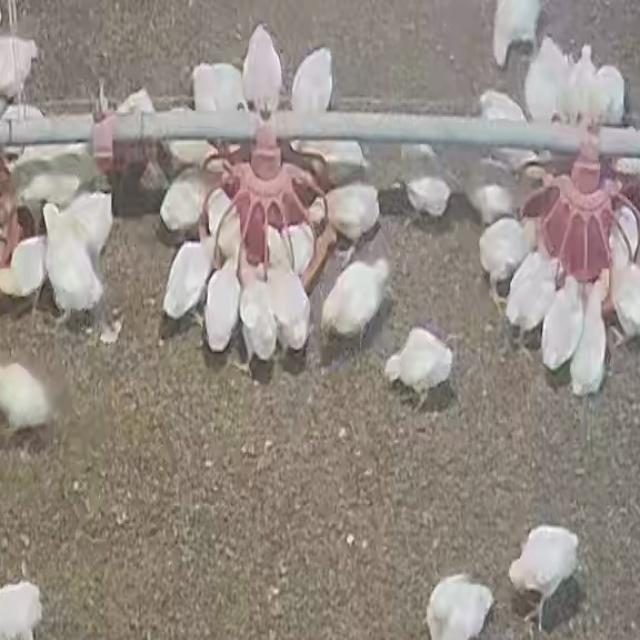chicken: (34, 196, 102, 316), (512, 526, 578, 625), (502, 250, 560, 346), (566, 277, 608, 397), (325, 259, 387, 340), (384, 326, 452, 399), (468, 157, 542, 223), (160, 106, 226, 179), (234, 255, 275, 372), (424, 573, 495, 640), (539, 274, 585, 376), (1, 356, 59, 436), (163, 231, 211, 324), (202, 247, 243, 352), (49, 193, 113, 260), (265, 259, 309, 356), (318, 180, 382, 246), (398, 144, 452, 219), (242, 23, 284, 116), (478, 216, 528, 289), (204, 189, 245, 276), (294, 140, 370, 185), (524, 37, 565, 120), (492, 0, 542, 68), (159, 169, 207, 236), (288, 48, 333, 118), (262, 221, 318, 277), (606, 256, 640, 346), (564, 44, 600, 126), (191, 63, 245, 116), (4, 235, 47, 299), (0, 578, 44, 640), (593, 65, 625, 125), (612, 202, 639, 264), (478, 90, 526, 120)
